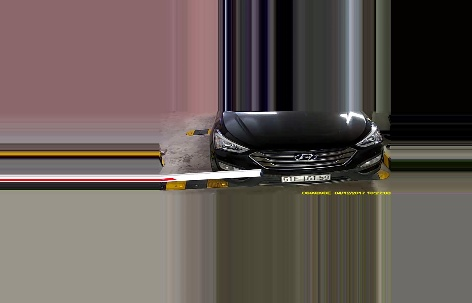plate: (277, 171, 330, 184)
